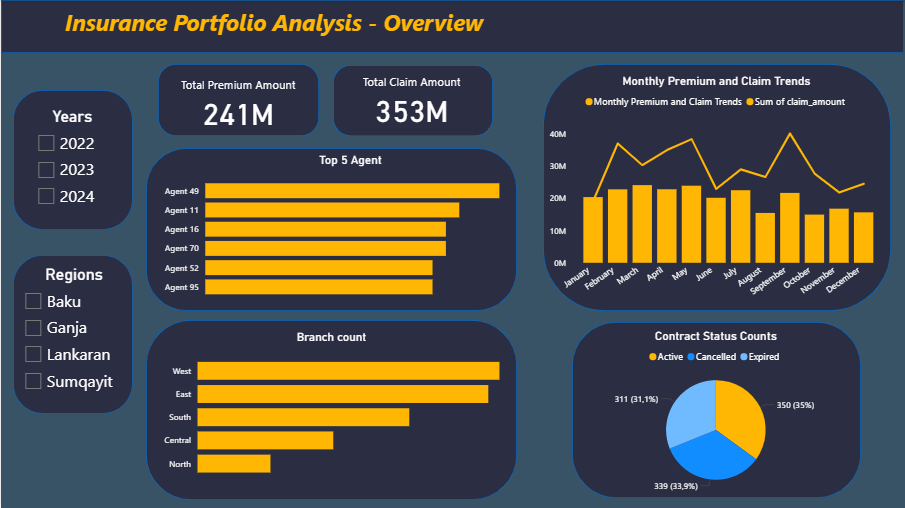

This screenshot's page, from the dashboard's own definition file:
{"tool":"powerbi","page":{"name":"Overview","canvas":[1280,720],"ordinal":0},"visuals":[{"type":"shape","box":[222.5,90.7,228.2,102],"z":0},{"type":"shape","box":[0,0,1279.8,75.1],"z":1000},{"type":"textbox","box":[0,4.3,773.9,66.6],"z":2000},{"type":"shape","box":[470.3,92.4,226.8,100.8],"z":3000},{"type":"shape","box":[768.2,90.7,493.2,350.1],"z":4000},{"type":"shape","box":[205.5,209.8,525.8,231],"z":5000},{"type":"cardVisual","fields":{"Data":["policies.premium_amount"]},"box":[231.8,92.4,208.3,109.2],"z":7000},{"type":"cardVisual","fields":{"Data":["claims.claim_amount"]},"box":[468.7,67.2,226.8,151.2],"z":8000},{"type":"lineStackedColumnComboChart","title":"Monthly Premium and Claim Trends","fields":{"Y":["policies.premium_amount"],"Y2":["claims.claim_amount"],"Category":["policies.start_date.Variation.Date Hierarchy.Month"]},"box":[772.4,104.9,483.3,335.9],"z":9000},{"type":"shape","box":[809.3,456.4,409.6,249.4],"z":10000},{"type":"pieChart","title":"Contract Status Counts","fields":{"Y":["policies.status"],"Category":["policies.status"]},"box":[774.4,467,478.7,238.5],"z":11000},{"type":"shape","box":[205.5,453.5,525.8,255.1],"z":12000},{"type":"clusteredBarChart","title":"Top 5 Agent","fields":{"Category":["agents.agent_name"],"Y":["policies.agent_id"]},"box":[222.5,216.9,545.7,216.9],"z":13000},{"type":"clusteredBarChart","title":"Branch count","fields":{"Category":["agents.branch"],"Y":["policies.policy_id"]},"box":[222.5,467.7,491.8,221.1],"z":14000},{"type":"shape","box":[16.8,127.7,169.7,198.2],"z":15000},{"type":"slicer","title":"Years","fields":{"Values":["policies.start_date.Variation.Date Hierarchy.Year"]},"box":[40.3,151.2,122.6,149.5],"z":16000},{"type":"shape","box":[16.8,361.2,169.7,225.1],"z":17000},{"type":"slicer","title":"Regions","fields":{"Values":["agents.region"]},"box":[21.8,376.3,164.6,194.9],"z":18000}]}

Visuals, with their boxes in screenshot pixels (x1, y1, x2, y2), scaled from the page's 1280x720 canvas onto the 905x508 screenshot:
shape: BBox(157, 64, 319, 136)
shape: BBox(0, 0, 904, 53)
textbox: BBox(0, 3, 547, 50)
shape: BBox(333, 65, 493, 136)
shape: BBox(543, 64, 892, 311)
shape: BBox(145, 148, 517, 311)
cardVisual - policies.premium_amount: BBox(164, 65, 311, 142)
cardVisual - claims.claim_amount: BBox(331, 47, 492, 154)
"Monthly Premium and Claim Trends" lineStackedColumnComboChart: BBox(546, 74, 888, 311)
shape: BBox(572, 322, 862, 498)
"Contract Status Counts" pieChart: BBox(548, 329, 886, 498)
shape: BBox(145, 320, 517, 500)
"Top 5 Agent" clusteredBarChart: BBox(157, 153, 543, 306)
"Branch count" clusteredBarChart: BBox(157, 330, 505, 486)
shape: BBox(12, 90, 132, 230)
"Years" slicer: BBox(28, 107, 115, 212)
shape: BBox(12, 255, 132, 414)
"Regions" slicer: BBox(15, 266, 132, 403)
